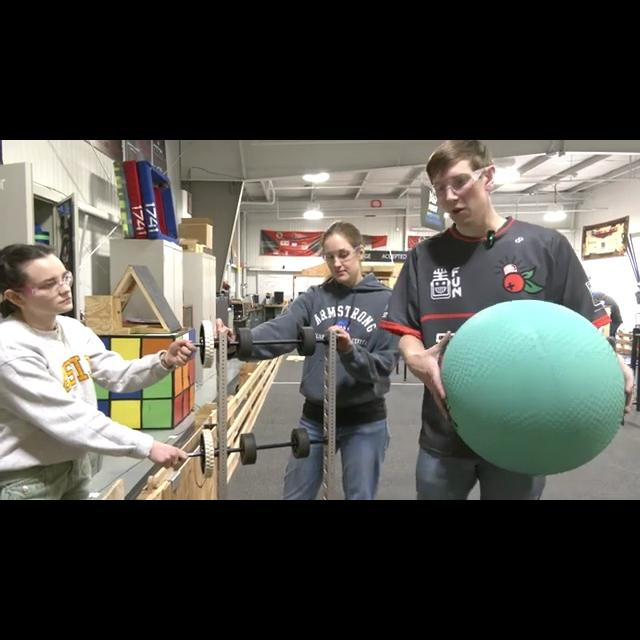ALGAE: (438, 296, 626, 476)
